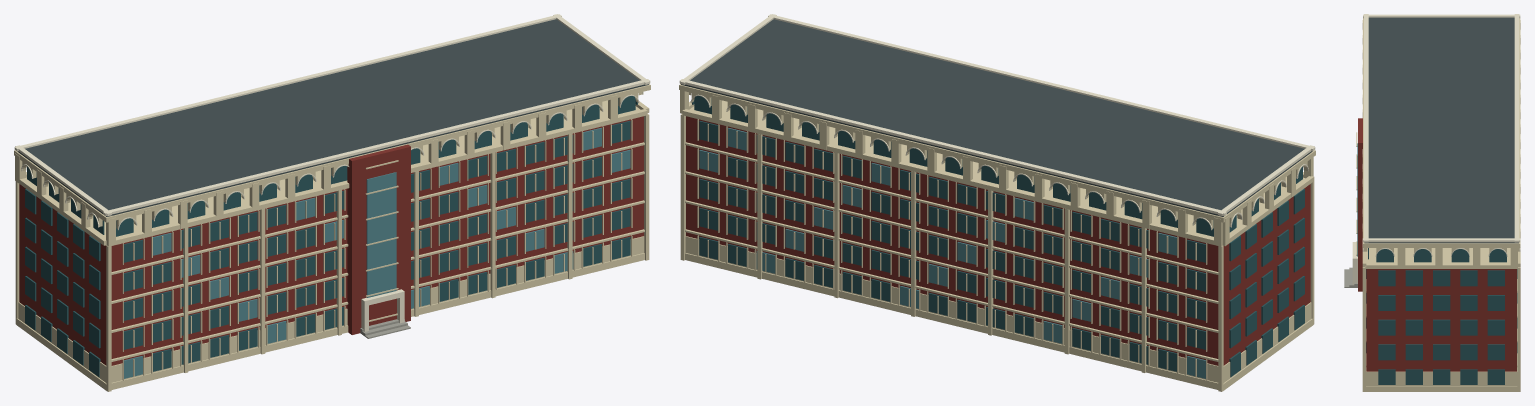
The picture shows the model from 3 angles, left to right: view 1: azimuth 30°, elevation 25°; view 2: azimuth 150°, elevation 25°; view 3: azimuth 270°, elevation 25°; orthographic projection. The views are drawn at different scales.
Parts seen in each view (by area): view 1: MainBlock_Roof, MainBlock_Structure, MainBlock_WindowGlass, MainBlock_WindowFrames, MainBlock_Pilasters, MainBlock_CentralBrickPier, MainBlock_RoofCoping, MainBlock_FloorBands, MainBlock_SideWindows, MainBlock_AtticPiers, MainBlock_Plinth, MainBlock_AtticRecess (+8 smaller); view 2: MainBlock_Roof, MainBlock_Structure, MainBlock_WindowGlass, MainBlock_WindowFrames, MainBlock_FloorBands, MainBlock_Pilasters, MainBlock_RoofCoping, MainBlock_SideWindows, MainBlock_AtticPiers, MainBlock_Plinth, MainBlock_AtticRecess, MainBlock_AtticSills (+5 smaller); view 3: MainBlock_Roof, MainBlock_Structure, MainBlock_SideWindows, MainBlock_RoofCoping, MainBlock_Cornice, MainBlock_GroundStonework, MainBlock_AtticPiers, MainBlock_AtticFloor, MainBlock_Pilasters, MainBlock_Plinth, MainBlock_AtticRecess, MainBlock_AtticSills (+5 smaller).
Boxes of the visible parts, x1,y1,x2,y2 form: MainBlock_Roof: (17, 19, 648, 216); MainBlock_Structure: (19, 116, 643, 365); MainBlock_WindowGlass: (124, 121, 630, 378); MainBlock_WindowFrames: (122, 119, 632, 380); MainBlock_Pilasters: (15, 114, 649, 391); MainBlock_CentralBrickPier: (347, 144, 410, 334); MainBlock_RoofCoping: (14, 14, 650, 216); MainBlock_FloorBands: (111, 142, 644, 361); MainBlock_SideWindows: (25, 189, 100, 377); MainBlock_AtticPiers: (15, 95, 617, 246); MainBlock_Plinth: (16, 253, 644, 390); MainBlock_AtticRecess: (27, 96, 637, 236); MainBlock_Roof: (681, 19, 1312, 216); MainBlock_Structure: (686, 116, 1310, 365); MainBlock_WindowGlass: (699, 121, 1205, 378); MainBlock_WindowFrames: (697, 119, 1207, 380); MainBlock_FloorBands: (685, 142, 1218, 361); MainBlock_Pilasters: (680, 114, 1314, 391); MainBlock_RoofCoping: (679, 14, 1315, 216); MainBlock_SideWindows: (1229, 189, 1304, 377); MainBlock_AtticPiers: (680, 90, 1313, 246); MainBlock_Plinth: (685, 253, 1313, 390); MainBlock_AtticRecess: (692, 96, 1302, 236); MainBlock_AtticSills: (682, 101, 1314, 244); MainBlock_Roof: (1364, 17, 1518, 243); MainBlock_Structure: (1366, 269, 1516, 371); MainBlock_SideWindows: (1378, 270, 1504, 384); MainBlock_RoofCoping: (1363, 14, 1520, 242); MainBlock_Cornice: (1363, 18, 1520, 247); MainBlock_GroundStonework: (1366, 367, 1517, 385); MainBlock_AtticPiers: (1362, 20, 1520, 268); MainBlock_AtticFloor: (1365, 248, 1510, 268); MainBlock_Pilasters: (1362, 267, 1520, 391); MainBlock_Plinth: (1364, 386, 1518, 391); MainBlock_AtticRecess: (1368, 248, 1506, 262); MainBlock_AtticSills: (1362, 251, 1520, 268).
Size of the model in its own units: 76.7 by 23.94 by 25.18.
